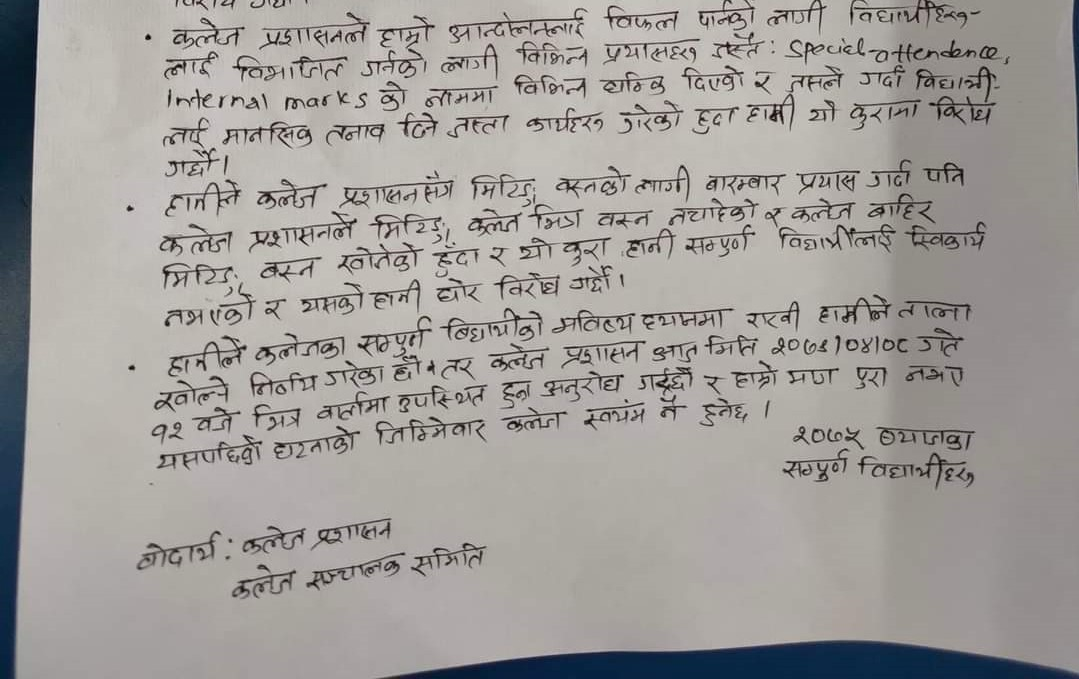text: (445, 3, 588, 42), (858, 450, 977, 492), (338, 169, 455, 209), (247, 209, 356, 250), (303, 551, 404, 594), (258, 11, 369, 49), (775, 223, 899, 254), (153, 438, 266, 472), (441, 306, 546, 342), (232, 50, 344, 83), (847, 2, 970, 31), (370, 416, 492, 445), (135, 531, 221, 572), (165, 333, 247, 375), (160, 292, 255, 328), (267, 426, 360, 462), (768, 332, 912, 355), (252, 332, 349, 365), (164, 178, 244, 218), (355, 314, 432, 355), (536, 369, 626, 404), (220, 120, 315, 152), (159, 260, 242, 296), (907, 219, 990, 255), (155, 223, 235, 260), (334, 242, 423, 275), (875, 423, 975, 452), (393, 384, 487, 414), (229, 563, 298, 603), (600, 38, 700, 65), (777, 449, 852, 485), (310, 516, 395, 547), (168, 16, 243, 51), (552, 165, 629, 199), (910, 63, 997, 93), (683, 224, 755, 260), (818, 291, 892, 326), (666, 197, 758, 225), (151, 378, 234, 409), (372, 211, 452, 243), (616, 100, 683, 138), (409, 543, 487, 575), (549, 306, 635, 335), (470, 171, 539, 207), (559, 340, 644, 369), (296, 281, 366, 316), (848, 97, 920, 131), (523, 105, 606, 134), (438, 41, 503, 78), (255, 178, 320, 215), (632, 164, 694, 202), (314, 389, 387, 421), (497, 267, 561, 303), (895, 295, 974, 324), (604, 3, 680, 33), (516, 39, 591, 69), (512, 72, 591, 100), (240, 524, 307, 557), (247, 367, 318, 398), (932, 92, 998, 125), (704, 170, 786, 196), (580, 400, 646, 432), (866, 192, 938, 221), (360, 48, 429, 78), (369, 278, 423, 316), (638, 309, 727, 332), (743, 298, 804, 331), (375, 15, 434, 49), (600, 69, 669, 98), (790, 423, 866, 449), (321, 358, 384, 389), (744, 95, 798, 131), (624, 226, 677, 262), (903, 362, 966, 392), (432, 243, 483, 280), (766, 1, 828, 31), (682, 65, 746, 94), (466, 205, 522, 238), (792, 169, 860, 196), (162, 50, 220, 81), (486, 343, 548, 372), (420, 86, 498, 109), (701, 395, 749, 432), (498, 410, 569, 435), (786, 64, 845, 94), (249, 401, 306, 432), (159, 115, 210, 148), (711, 32, 765, 63), (791, 197, 855, 223), (444, 115, 512, 139), (695, 6, 757, 32), (257, 258, 320, 283), (529, 203, 583, 232), (635, 367, 695, 393), (165, 149, 220, 177), (916, 327, 962, 360), (324, 122, 386, 146), (704, 332, 759, 359), (561, 235, 608, 266), (866, 158, 913, 189), (730, 362, 777, 392), (649, 338, 699, 366), (567, 266, 614, 295), (399, 107, 440, 140), (692, 105, 738, 134), (856, 63, 906, 89), (435, 277, 481, 305), (592, 209, 651, 230), (192, 407, 235, 435), (783, 363, 835, 386), (923, 159, 966, 186), (375, 78, 410, 111), (515, 236, 557, 263), (499, 375, 529, 410), (851, 365, 892, 390), (389, 355, 423, 383), (438, 357, 478, 380), (151, 419, 185, 446), (806, 99, 840, 125), (752, 67, 777, 98), (658, 394, 683, 422), (260, 298, 286, 320), (486, 245, 510, 266), (763, 204, 785, 226), (704, 374, 725, 395)
